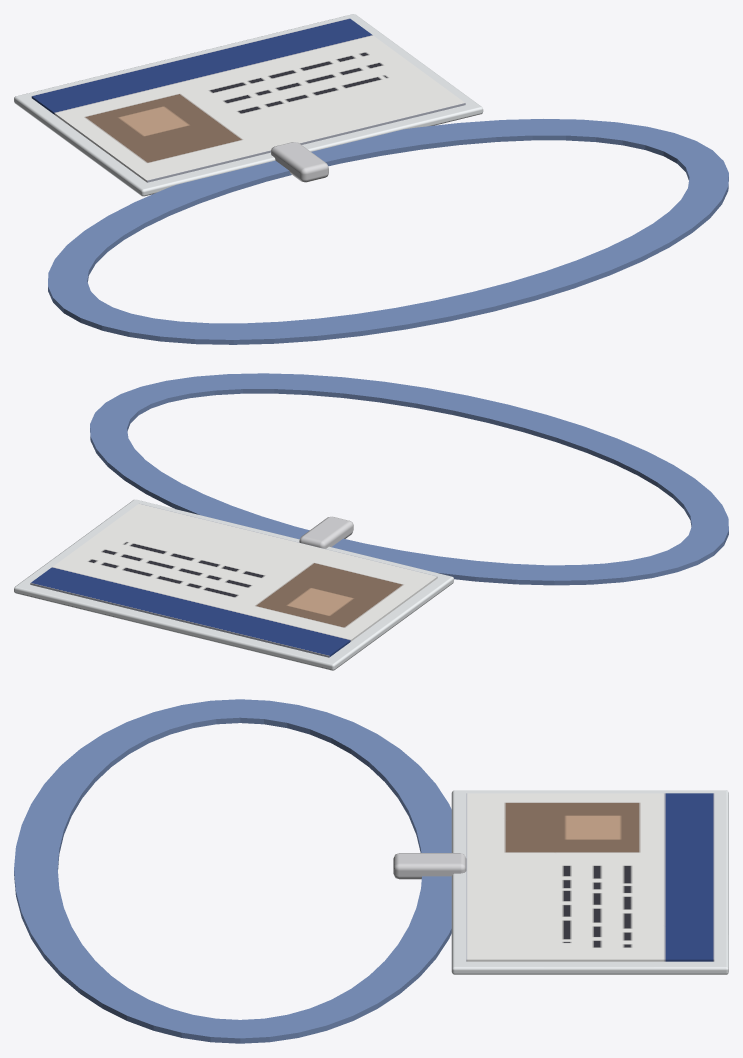
The model's file is escena.casa.credencial_u.fbx.
3 views of the same model, one above another, from view 1: azimuth 30°, elevation 25°; view 2: azimuth 150°, elevation 25°; view 3: azimuth 270°, elevation 25° (orthographic). The views are drawn at different scales.
Parts seen in each view (by area): view 1: Credencial, Cordon, Funda, Mosqueton; view 2: Credencial, Cordon, Funda, Mosqueton; view 3: Credencial, Cordon, Funda, Mosqueton.
Part boxes in pixels (<box>): Credencial: <box>31,18,465,182</box>; Cordon: <box>48,119,728,344</box>; Funda: <box>14,14,483,196</box>; Mosqueton: <box>271,142,328,182</box>; Credencial: <box>30,503,437,657</box>; Cordon: <box>90,373,728,585</box>; Funda: <box>14,499,453,670</box>; Mosqueton: <box>299,516,353,548</box>; Credencial: <box>466,793,714,961</box>; Cordon: <box>14,699,451,1043</box>; Funda: <box>451,790,728,974</box>; Mosqueton: <box>393,853,466,879</box>.
Size of the model in its own units: 0.275 by 0.006 by 0.245.
Materials: 4 (1 with a texture image).
